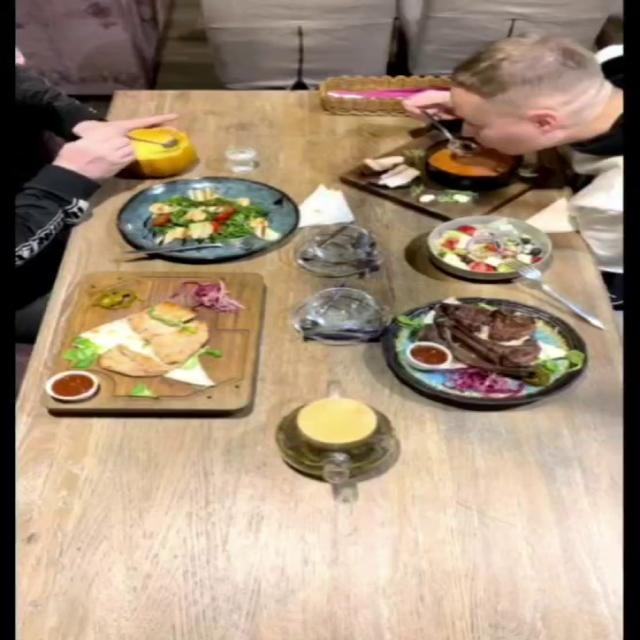meat: (44, 272, 268, 416), (378, 296, 590, 406)
salad: (114, 176, 296, 262), (424, 213, 554, 279)
soup: (337, 128, 563, 222), (126, 127, 200, 177)
tea: (272, 396, 398, 480)
